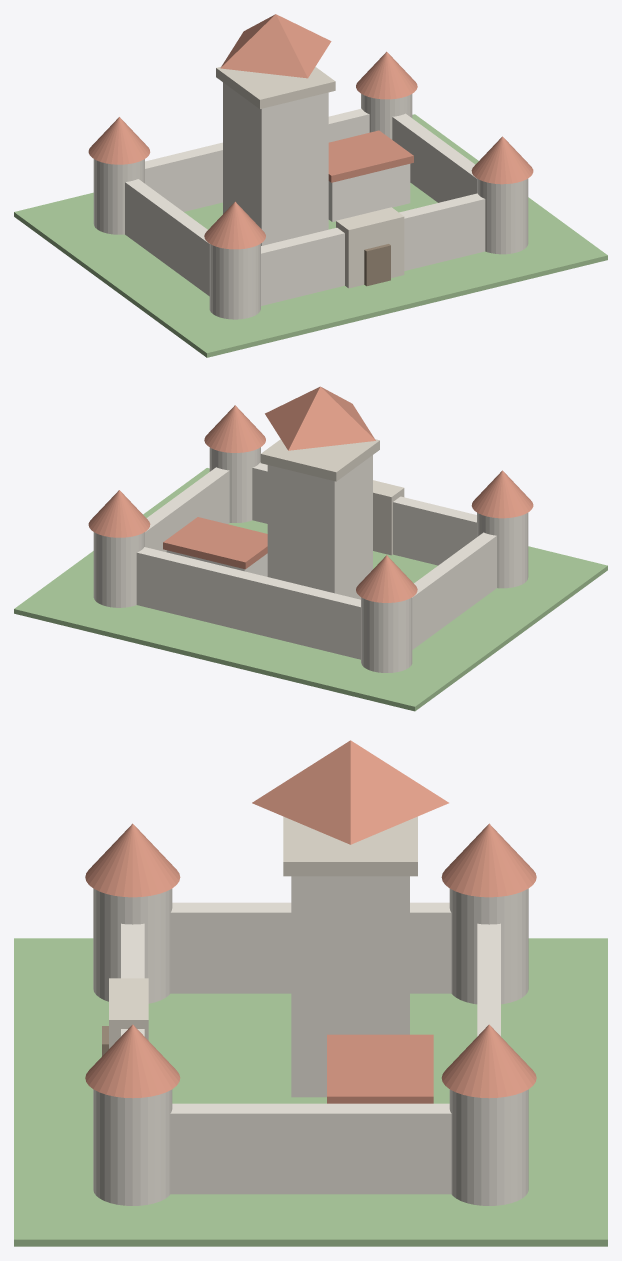
File: fort-1512.glb
3 views of the same model, one above another, from view 1: azimuth 30°, elevation 25°; view 2: azimuth 150°, elevation 25°; view 3: azimuth 270°, elevation 25° (orthographic). The views are drawn at different scales.
Parts seen in each view (by area): view 1: geometry_0, geometry_15, geometry_1, geometry_4, geometry_2, geometry_17, geometry_3, geometry_7, geometry_13, geometry_18, geometry_11, geometry_16 (+8 smaller); view 2: geometry_0, geometry_2, geometry_15, geometry_4, geometry_1, geometry_17, geometry_5, geometry_19, geometry_3, geometry_9, geometry_16, geometry_7 (+7 smaller); view 3: geometry_0, geometry_3, geometry_15, geometry_4, geometry_17, geometry_9, geometry_11, geometry_19, geometry_5, geometry_16, geometry_7, geometry_6 (+6 smaller).
Boxes of the visible parts, x1,y1,x2,y2 form: geometry_0: [14, 114, 607, 357]; geometry_15: [223, 82, 328, 245]; geometry_1: [261, 193, 485, 305]; geometry_4: [125, 179, 209, 296]; geometry_2: [145, 108, 369, 211]; geometry_17: [220, 14, 331, 78]; geometry_3: [392, 113, 476, 202]; geometry_7: [209, 243, 260, 319]; geometry_13: [336, 207, 404, 288]; geometry_18: [328, 164, 410, 221]; geometry_11: [477, 178, 528, 254]; geometry_16: [216, 67, 335, 108]; geometry_0: [14, 468, 607, 711]; geometry_2: [136, 547, 360, 659]; geometry_15: [267, 455, 372, 599]; geometry_4: [412, 532, 496, 649]; geometry_1: [252, 462, 476, 565]; geometry_17: [265, 386, 375, 450]; geometry_5: [361, 597, 412, 672]; geometry_19: [163, 517, 267, 569]; geometry_3: [145, 467, 229, 552]; geometry_9: [93, 532, 144, 607]; geometry_16: [260, 439, 379, 481]; geometry_7: [477, 512, 528, 588]; geometry_0: [14, 938, 607, 1246]; geometry_3: [170, 1103, 451, 1194]; geometry_15: [291, 876, 409, 1097]; geometry_4: [170, 902, 451, 993]; geometry_17: [252, 740, 448, 844]; geometry_9: [449, 1089, 528, 1205]; geometry_11: [93, 1089, 172, 1205]; geometry_19: [327, 1034, 433, 1103]; geometry_5: [449, 888, 528, 1004]; geometry_16: [283, 816, 417, 876]; geometry_7: [93, 888, 172, 1003]; geometry_6: [441, 823, 536, 897].
Bounding box in the file's own units: 3.6 × 1.89 × 3.
